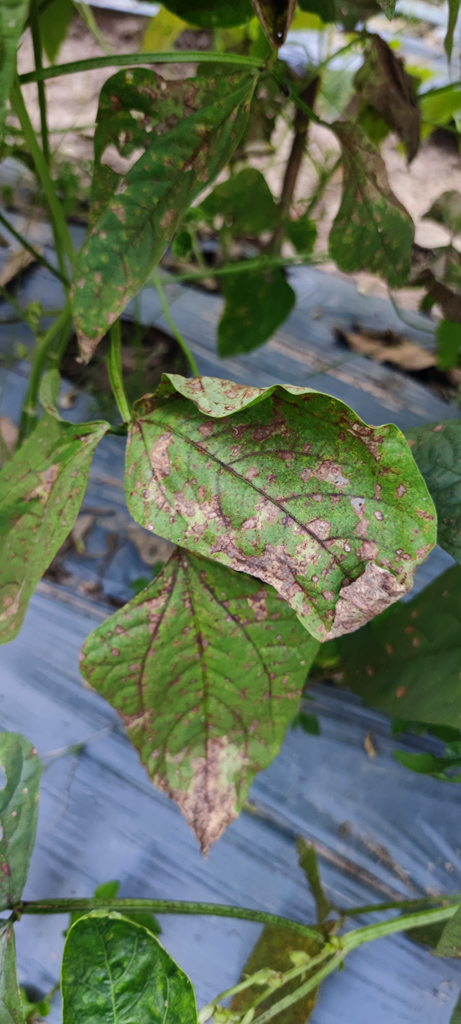Rust: (122, 369, 440, 635), (63, 42, 269, 372), (87, 559, 303, 857), (5, 396, 102, 652), (316, 115, 428, 292)
